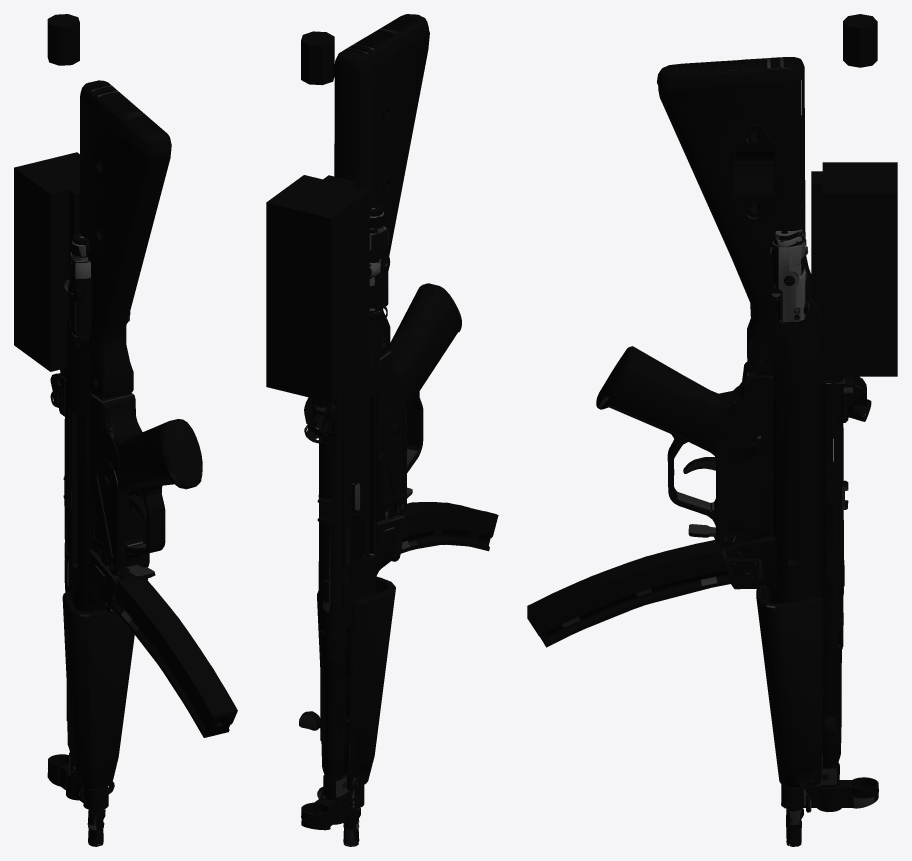
The model's file is MP5A3__Adapter_HK_3Lug__Handguard_MP5_Rail__Laser_Rifle.fbx.
3 views of the same model, side by side, from view 1: azimuth 30°, elevation 25°; view 2: azimuth 150°, elevation 25°; view 3: azimuth 270°, elevation 25° (orthographic). The views are drawn at different scales.
Parts seen in each view (by area): view 1: asset_MP5A3.001; view 2: asset_MP5A3.001; view 3: asset_MP5A3.001.
Boxes of the visible parts, bbox=[...] form: asset_MP5A3.001: bbox=[14, 14, 237, 846]; asset_MP5A3.001: bbox=[266, 14, 498, 846]; asset_MP5A3.001: bbox=[527, 14, 897, 846].
Size of the model in its own units: 0.0324 by 0.378 by 0.1542.
